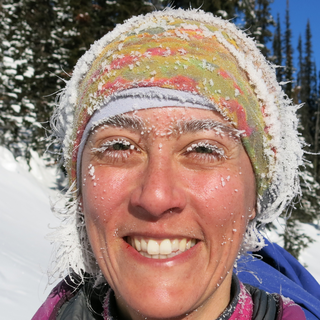eye: (176, 139, 223, 164), (97, 135, 141, 160)
